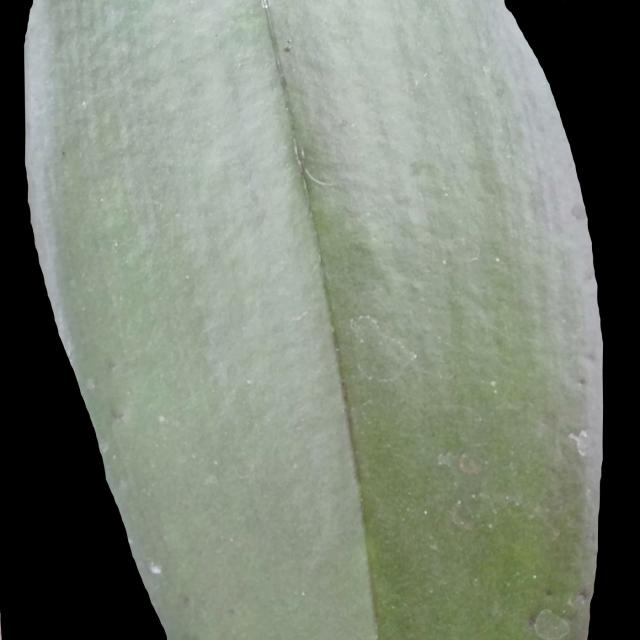mite: (403, 438, 592, 634), (416, 441, 507, 538), (526, 582, 592, 637), (530, 607, 571, 638), (415, 501, 434, 523), (146, 559, 163, 576), (540, 583, 556, 599), (577, 586, 590, 603), (481, 519, 495, 532), (59, 145, 68, 159), (544, 587, 554, 597), (420, 507, 430, 517), (453, 497, 463, 507)
